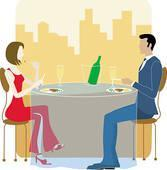bottle: (87, 55, 103, 84)
chair: (132, 66, 166, 159), (1, 68, 29, 160)
diningtable: (30, 83, 137, 169)
person: (87, 32, 164, 169), (3, 41, 63, 166)
